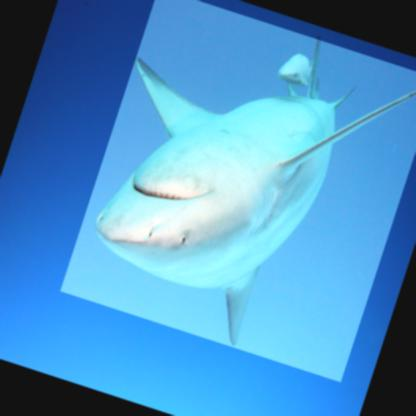bulldog-shark: (58, 0, 415, 382)
